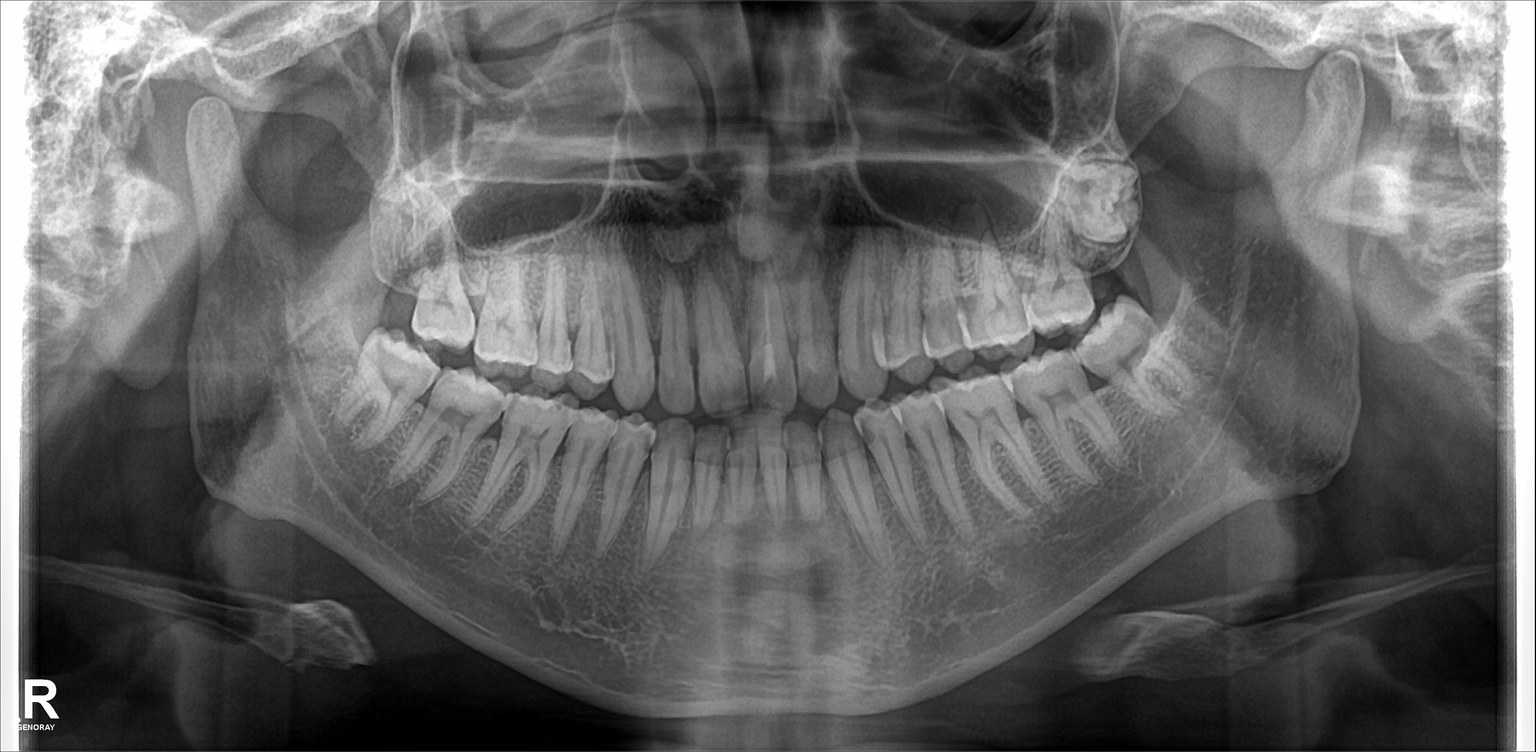Impacted Third Molar: (1095, 305, 1184, 407), (1045, 158, 1144, 249), (359, 339, 437, 431)
